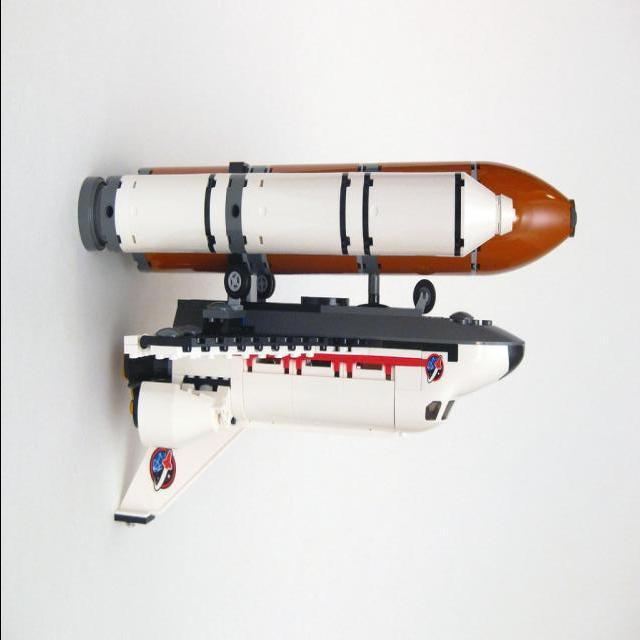missile: (76, 165, 521, 262)
